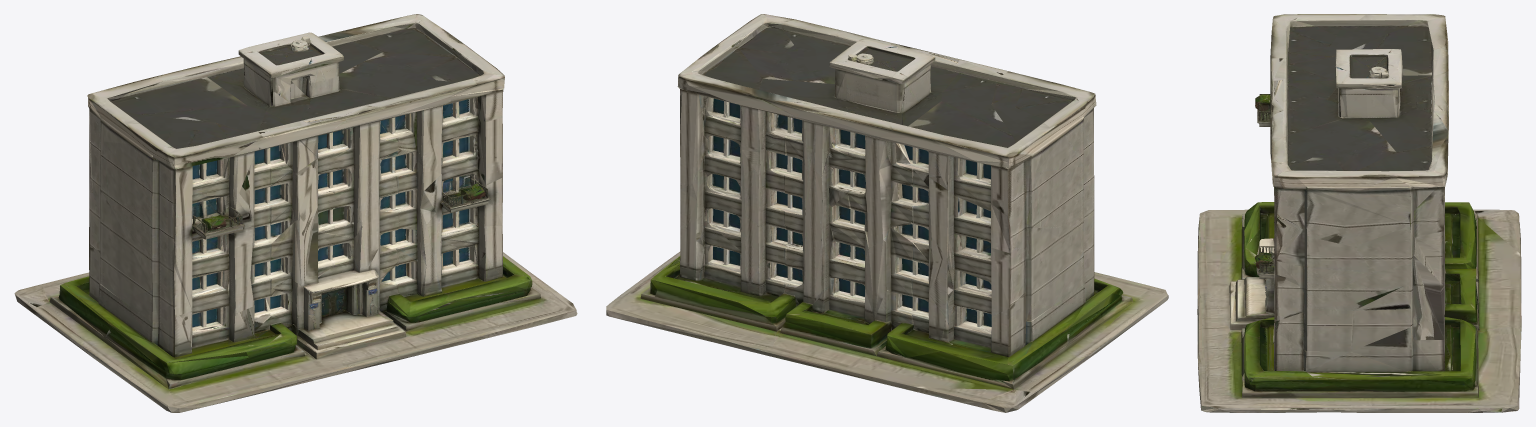
Rendered from town_flats_grey.glb.
3 renders of one model, left to right at view 1: azimuth 30°, elevation 25°; view 2: azimuth 150°, elevation 25°; view 3: azimuth 270°, elevation 25°, orthographic.
Visible parts, largest first — view 1: normalize; view 2: normalize; view 3: normalize.
Boxes of the visible parts, left/top/right/bottom form: normalize: left=14, top=14, right=577, bottom=412; normalize: left=606, top=14, right=1168, bottom=412; normalize: left=1197, top=14, right=1521, bottom=412.
Bounding box in the file's own units: 1 × 0.5906 × 0.6858.
Materials: 1 (1 with a texture image).
